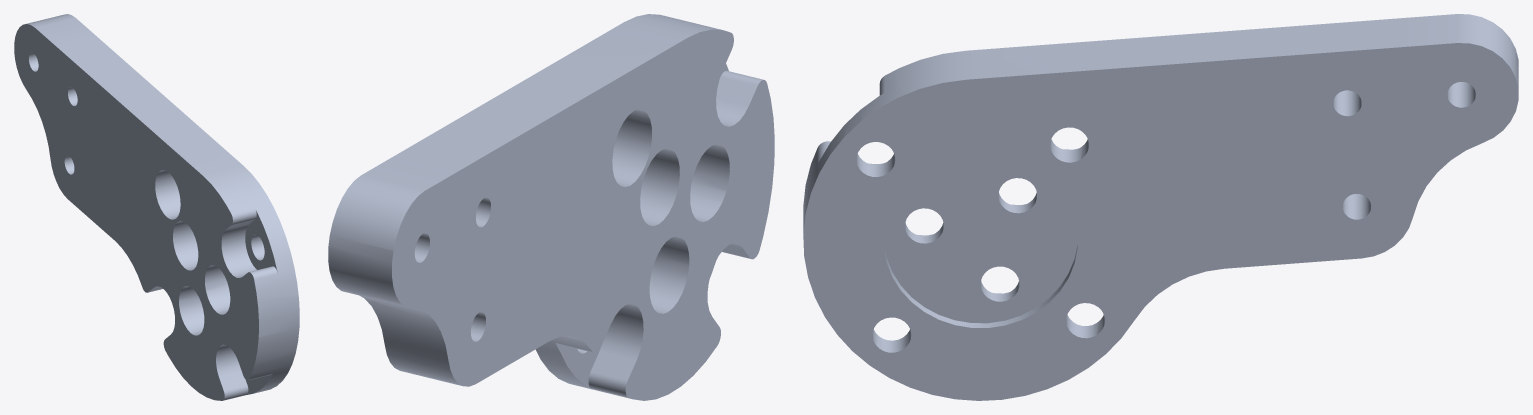
The model's file is finger_inner_02.obj.
3 views of the same model, side by side, from view 1: azimuth 30°, elevation 25°; view 2: azimuth 150°, elevation 25°; view 3: azimuth 270°, elevation 25° (orthographic). The views are drawn at different scales.
Visible parts, largest first — view 1: finger_inner_02; view 2: finger_inner_02; view 3: finger_inner_02.
Part boxes in pixels (x1,y1,x2,y2): finger_inner_02: [14, 14, 299, 400]; finger_inner_02: [328, 14, 774, 400]; finger_inner_02: [803, 14, 1518, 400].
Bounding box in the file's own units: 0.006 × 0.0345 × 0.0625.
